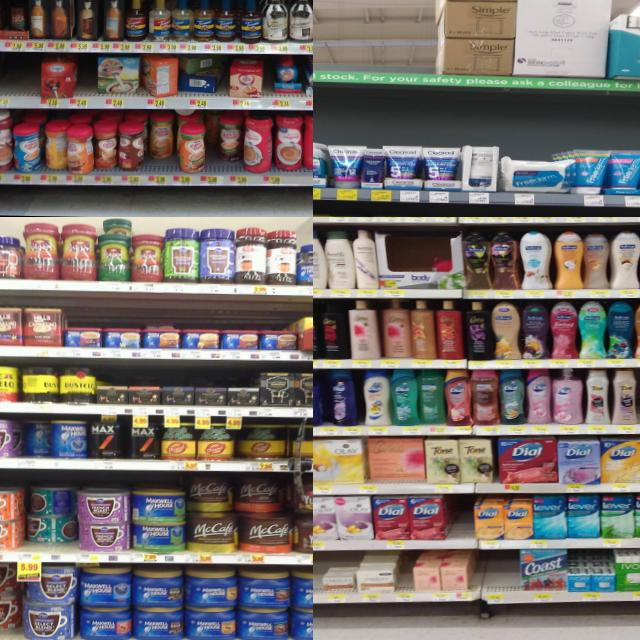100- O.O.S: (0, 52, 40, 107), (484, 550, 518, 602), (450, 496, 472, 548), (77, 52, 97, 108), (400, 552, 412, 601)
